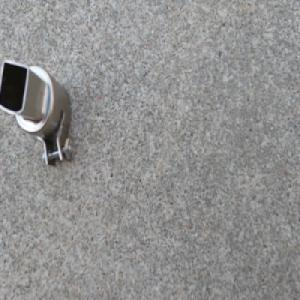MetalPart: (0, 55, 73, 168)
